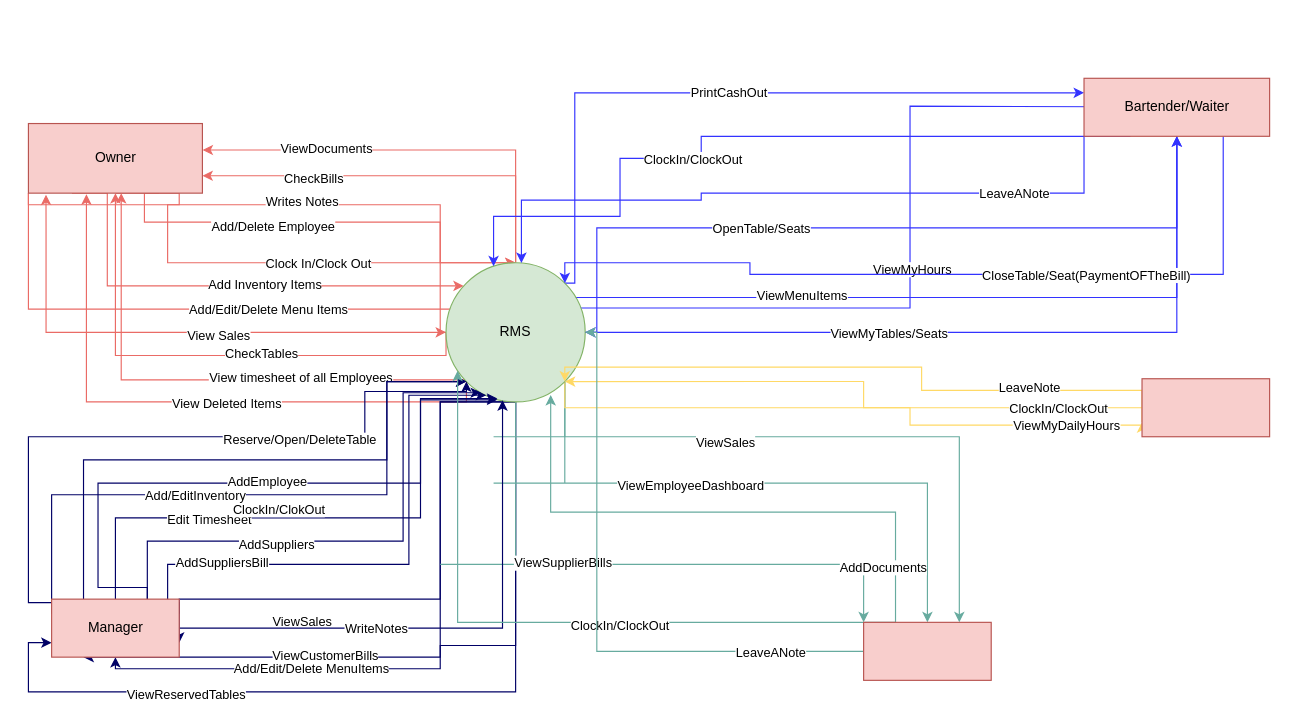
Image size: 1299x723. Some labels were removed from this diagram. The centre of each missing label's shape, as x and y in pixels:
Economist: the point at 926,650
Other Employees: the point at 1205,407
